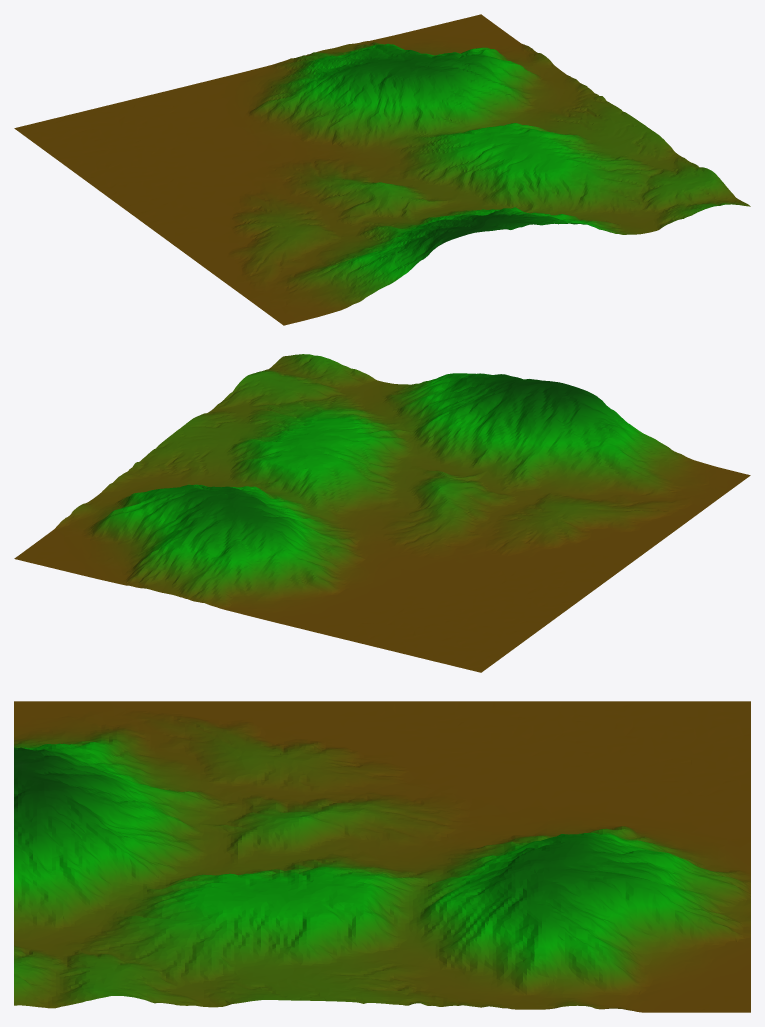
File: Tile_001.fbx
3 views of the same model, one above another, from view 1: azimuth 30°, elevation 25°; view 2: azimuth 150°, elevation 25°; view 3: azimuth 270°, elevation 25° (orthographic). The views are drawn at different scales.
Parts seen in each view (by area): view 1: foreach_begin1; view 2: foreach_begin1; view 3: foreach_begin1.
Boxes of the visible parts, x1=… form: foreach_begin1: x1=14, y1=14, x2=750, y2=325; foreach_begin1: x1=14, y1=354, x2=750, y2=672; foreach_begin1: x1=14, y1=701, x2=750, y2=1012.
Bounding box in the file's own units: 1556 × 148 × 1556.
